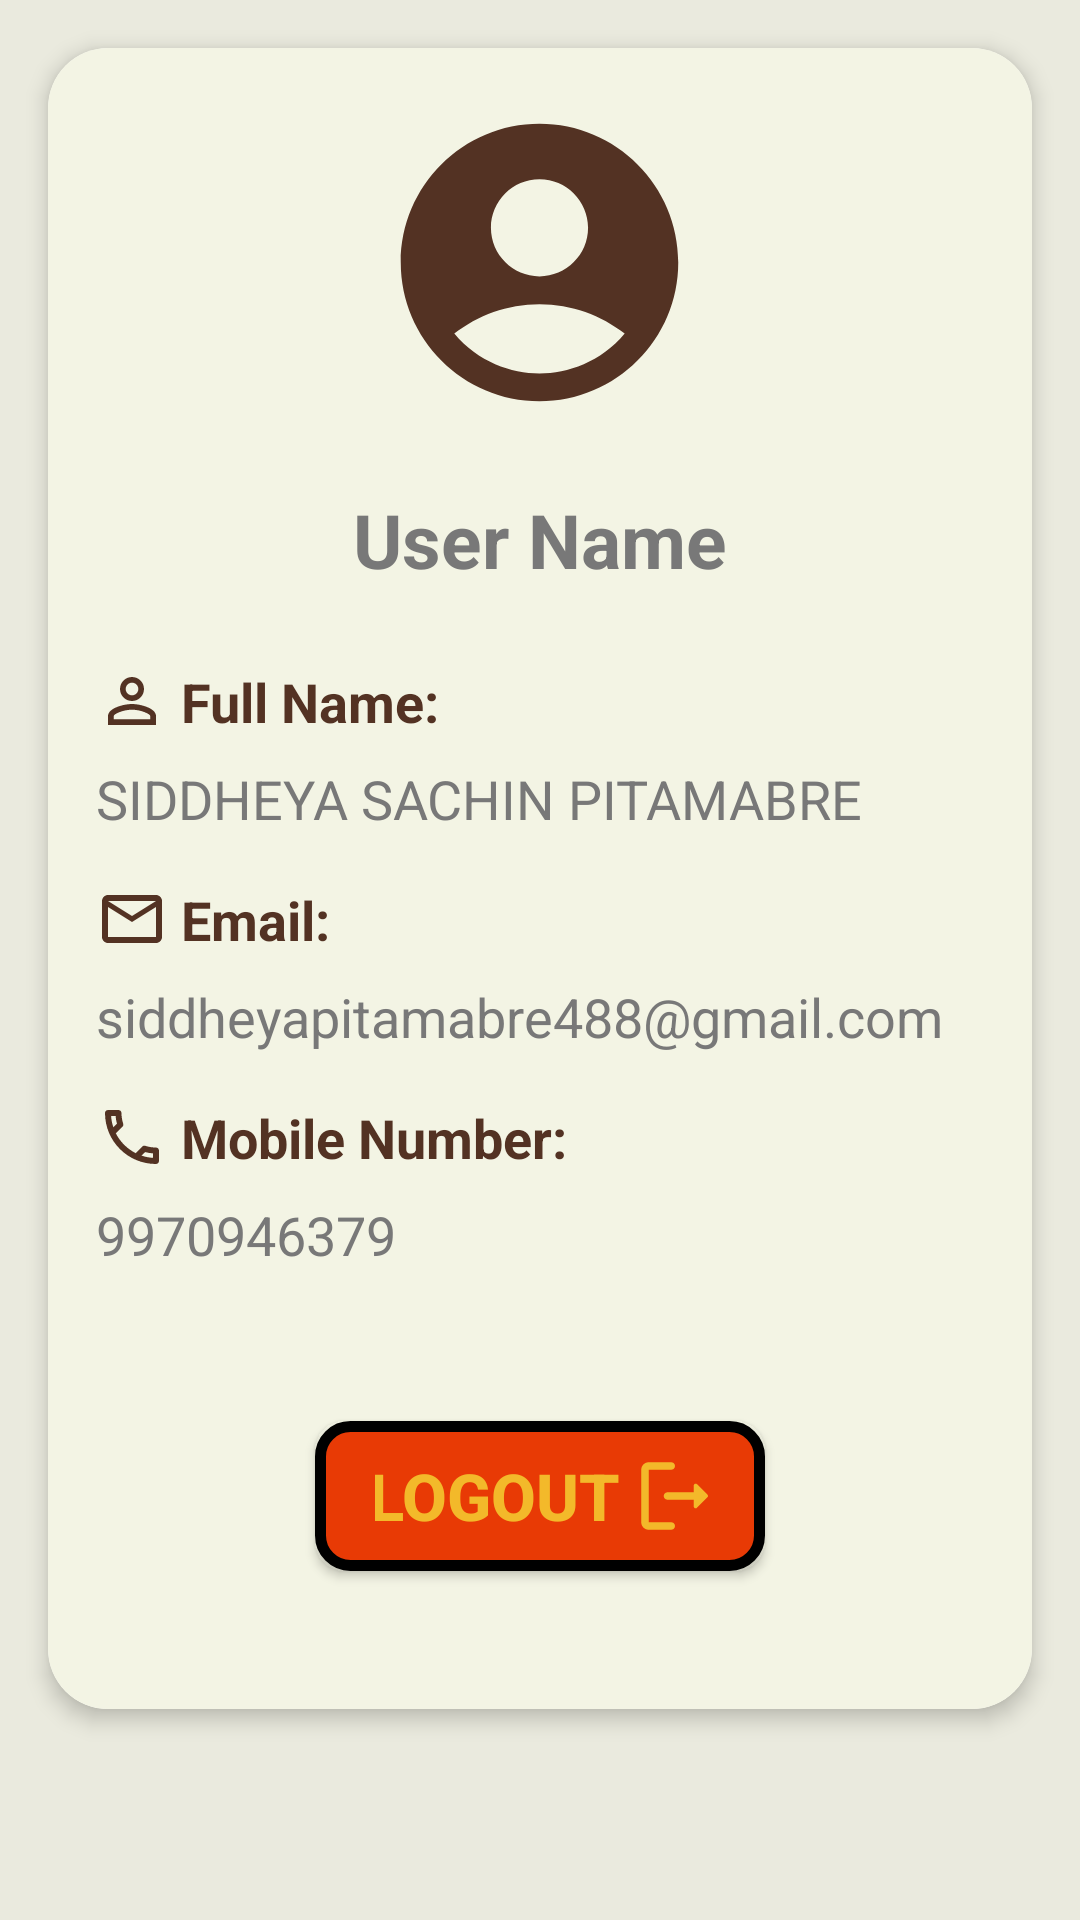

Where icons sit on this 1080px×1920px app screen, as bbox(x1, y1, x2, y2):
profile: bbox(400, 123, 679, 402)
